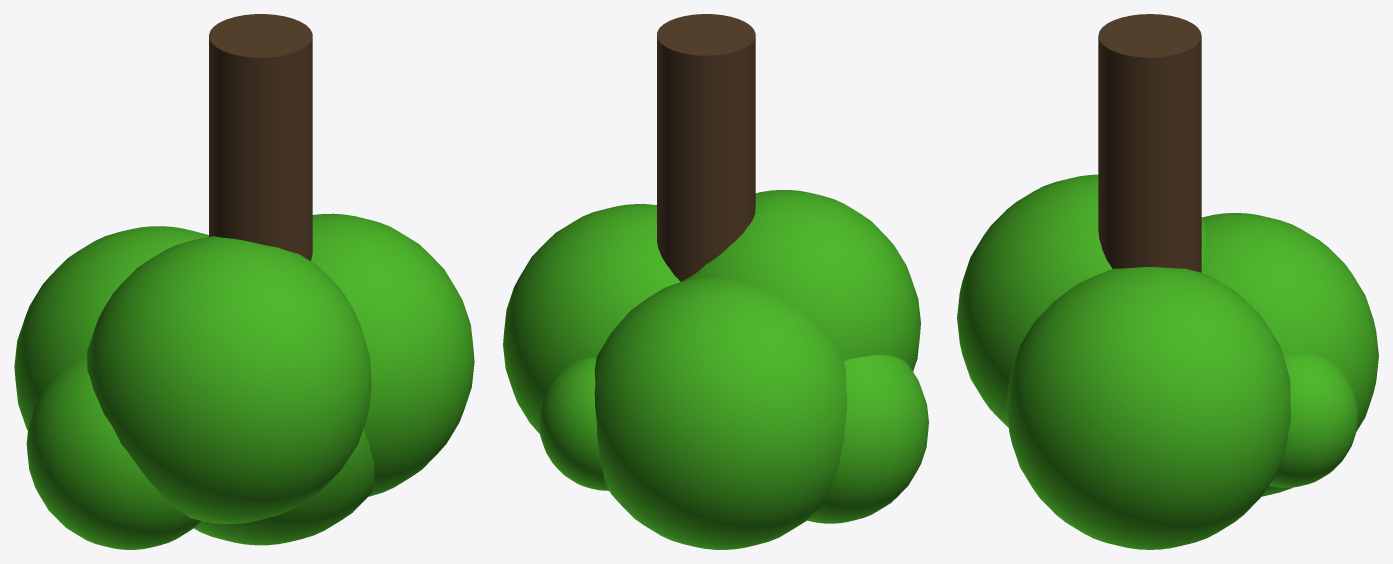
File: tree1.dae
The picture shows the model from 3 angles, left to right: view 1: azimuth 30°, elevation 25°; view 2: azimuth 150°, elevation 25°; view 3: azimuth 270°, elevation 25°; orthographic projection. The views are drawn at different scales.
Visible parts, largest first — view 1: Ball_3, Ball_1, Cylinder, Ball_5, Ball_2, Ball; view 2: Ball_2, Cylinder, Ball_3, Ball_1, Ball_5, Ball_4; view 3: Ball_1, Cylinder, Ball_3, Ball_2, Ball_4.
Boxes of the visible parts, bbox=[...] form: Ball_3: bbox=[86, 236, 371, 523]; Ball_1: bbox=[311, 213, 474, 496]; Cylinder: bbox=[209, 14, 312, 261]; Ball_5: bbox=[26, 358, 201, 549]; Ball_2: bbox=[14, 226, 208, 430]; Ball: bbox=[194, 428, 375, 545]; Ball_2: bbox=[594, 277, 847, 549]; Cylinder: bbox=[657, 14, 755, 281]; Ball_3: bbox=[682, 190, 920, 371]; Ball_1: bbox=[503, 204, 680, 433]; Ball_5: bbox=[807, 355, 928, 523]; Ball_4: bbox=[539, 357, 608, 490]; Ball_1: bbox=[1006, 267, 1290, 549]; Cylinder: bbox=[1098, 14, 1201, 272]; Ball_3: bbox=[957, 174, 1205, 427]; Ball_2: bbox=[1202, 213, 1378, 496]; Ball_4: bbox=[1269, 354, 1358, 487].
Size of the model in its own units: 461 by 527 by 409.
